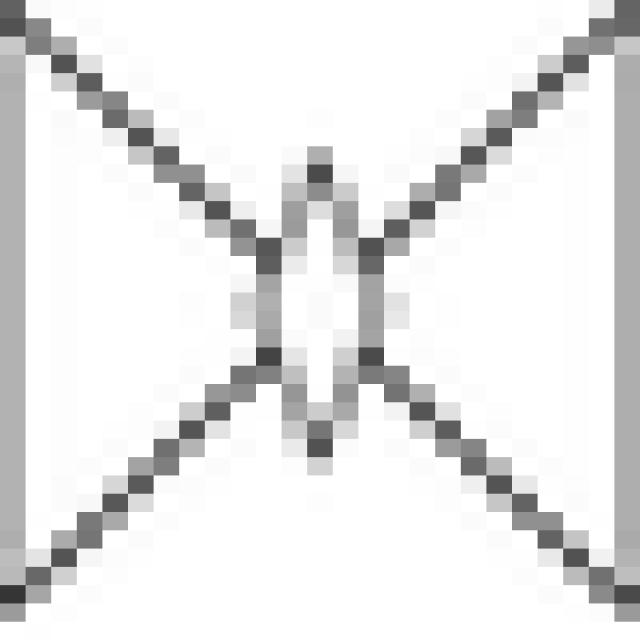Plug Valve: (14, 8, 624, 607)
